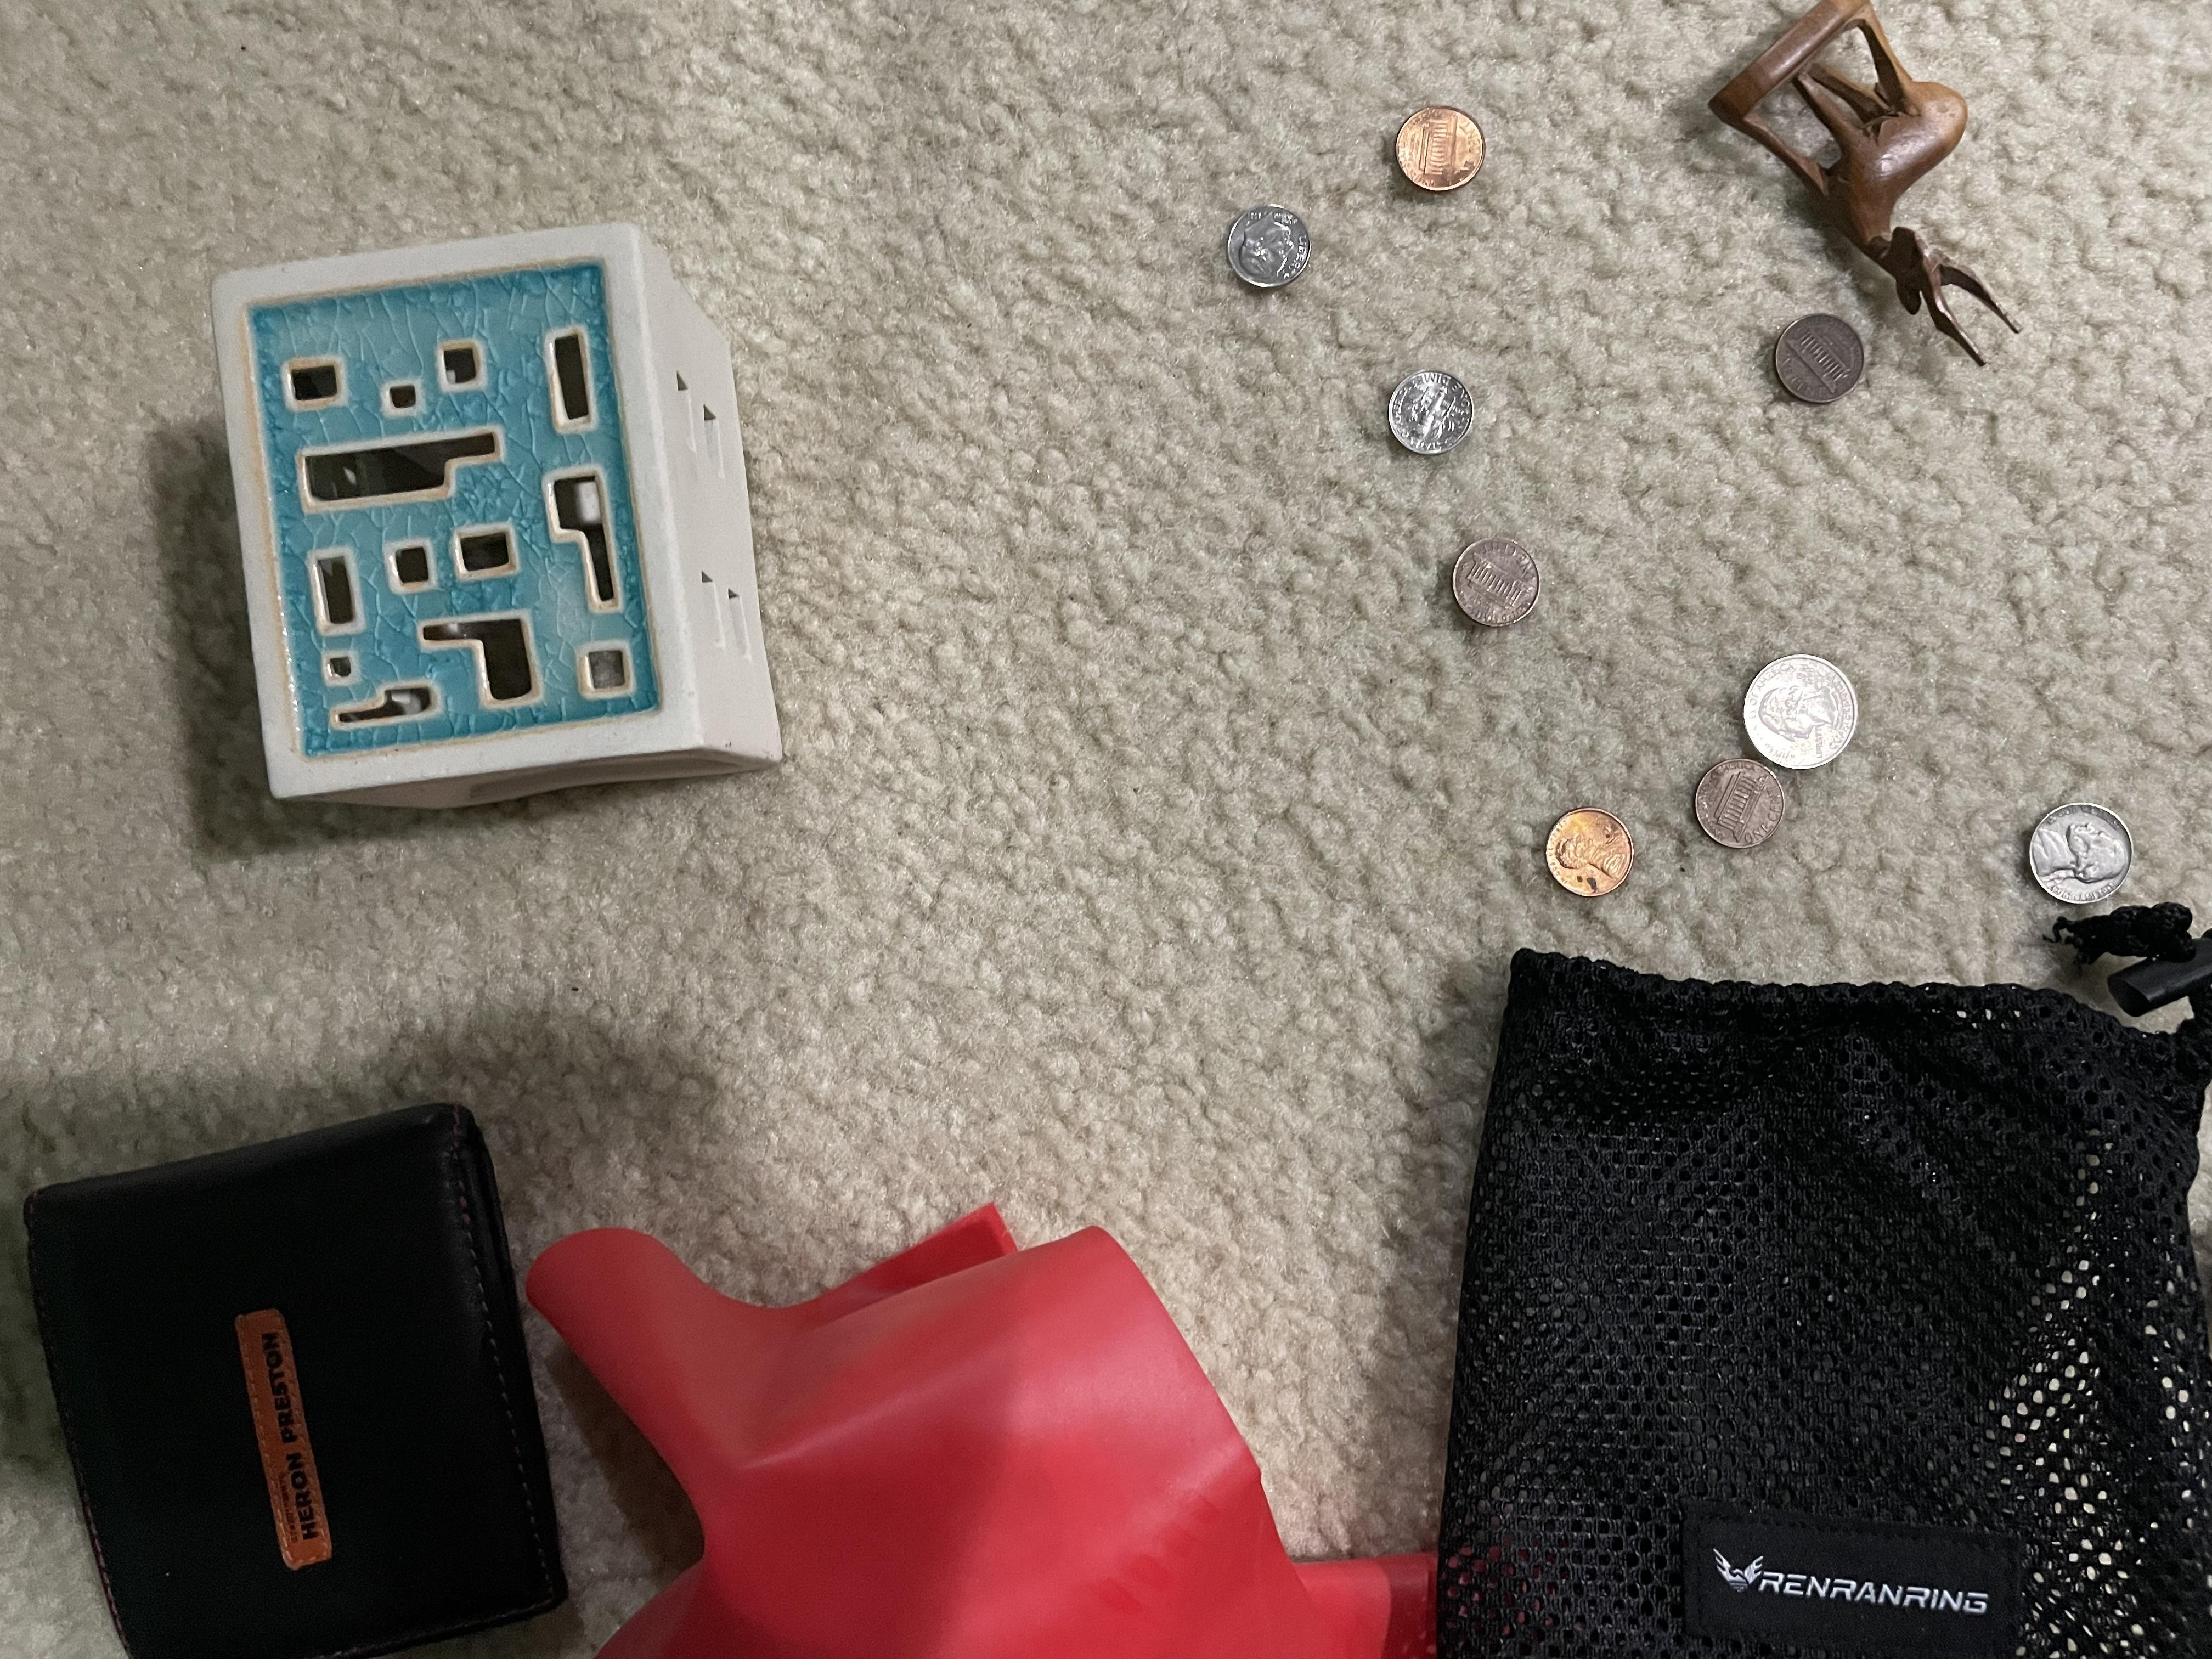Dime: (1379, 362, 1475, 460), (1216, 206, 1315, 295)
Nickel: (2010, 791, 2156, 904)
Penny: (1759, 305, 1886, 408), (1378, 103, 1507, 195), (1693, 751, 1801, 852), (1540, 800, 1639, 904), (1437, 532, 1550, 622)
Quarter: (1745, 624, 1878, 775)
